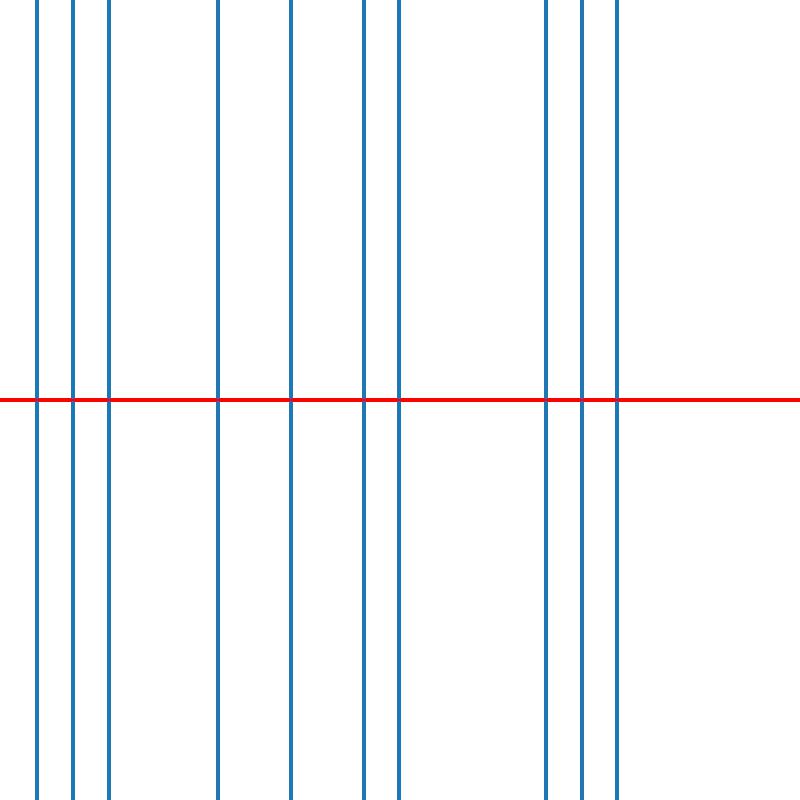root: (541, 396, 549, 404), (32, 396, 40, 404), (105, 396, 112, 404), (396, 396, 403, 404), (287, 396, 294, 404), (69, 396, 76, 404), (360, 396, 367, 404), (614, 396, 621, 404), (214, 396, 221, 404), (578, 396, 585, 404)
